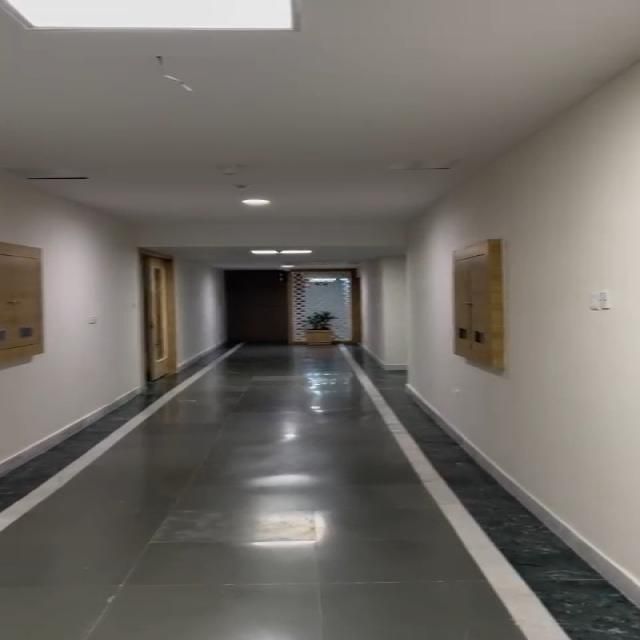door: (136, 248, 177, 378)
floor: (6, 468, 569, 640), (142, 390, 411, 480), (238, 338, 377, 388)
furniture: (306, 310, 341, 348)
wall: (482, 151, 640, 506), (0, 174, 151, 426), (371, 243, 457, 379), (178, 261, 224, 338)
